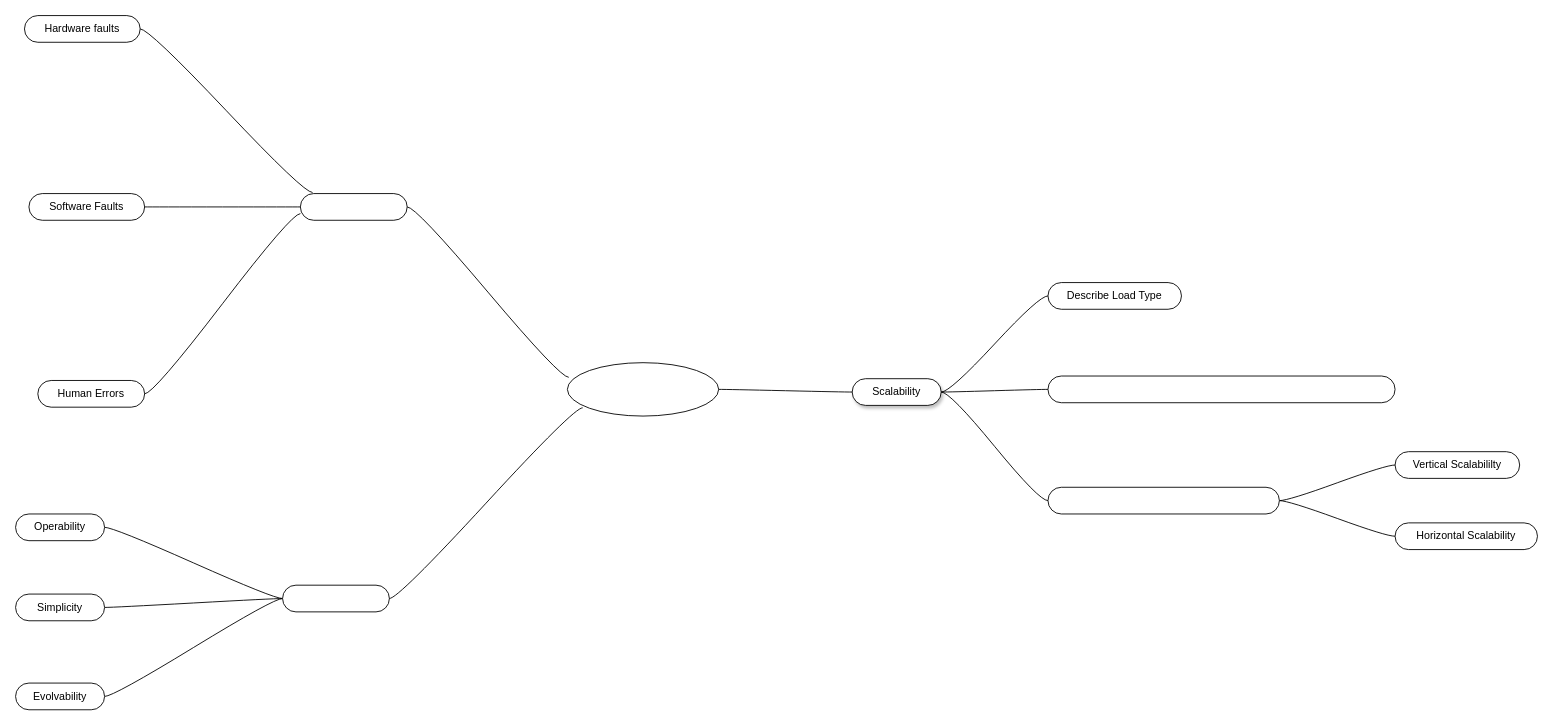
This 1553x725 diagram has some shape labels left out. The centre of each missing label's shape, as x and y in pixels:
"Describe Performance at which point the performance is reducing" belongs at [1221,389].
"Implement scalability with increase load" belongs at [1163,500].
"Maintainability" belongs at [335,598].
"Reliability" belongs at [353,206].
"Software" belongs at [642,389].
